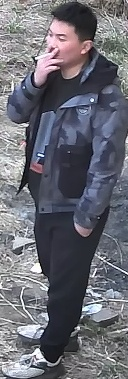smoking: (5, 34, 82, 128)
